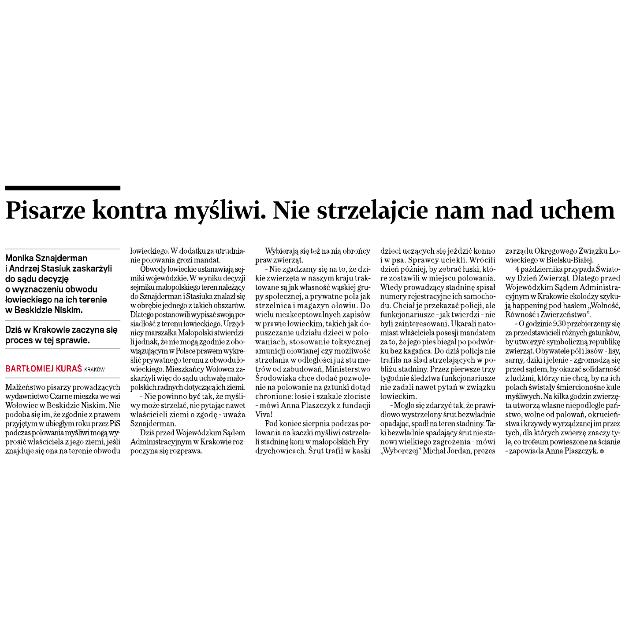author: (4, 360, 84, 376)
body: (501, 245, 623, 458), (129, 245, 249, 458), (378, 244, 498, 456), (254, 243, 372, 455), (3, 381, 123, 457)
lead: (2, 252, 124, 346)
title: (3, 192, 624, 228)
